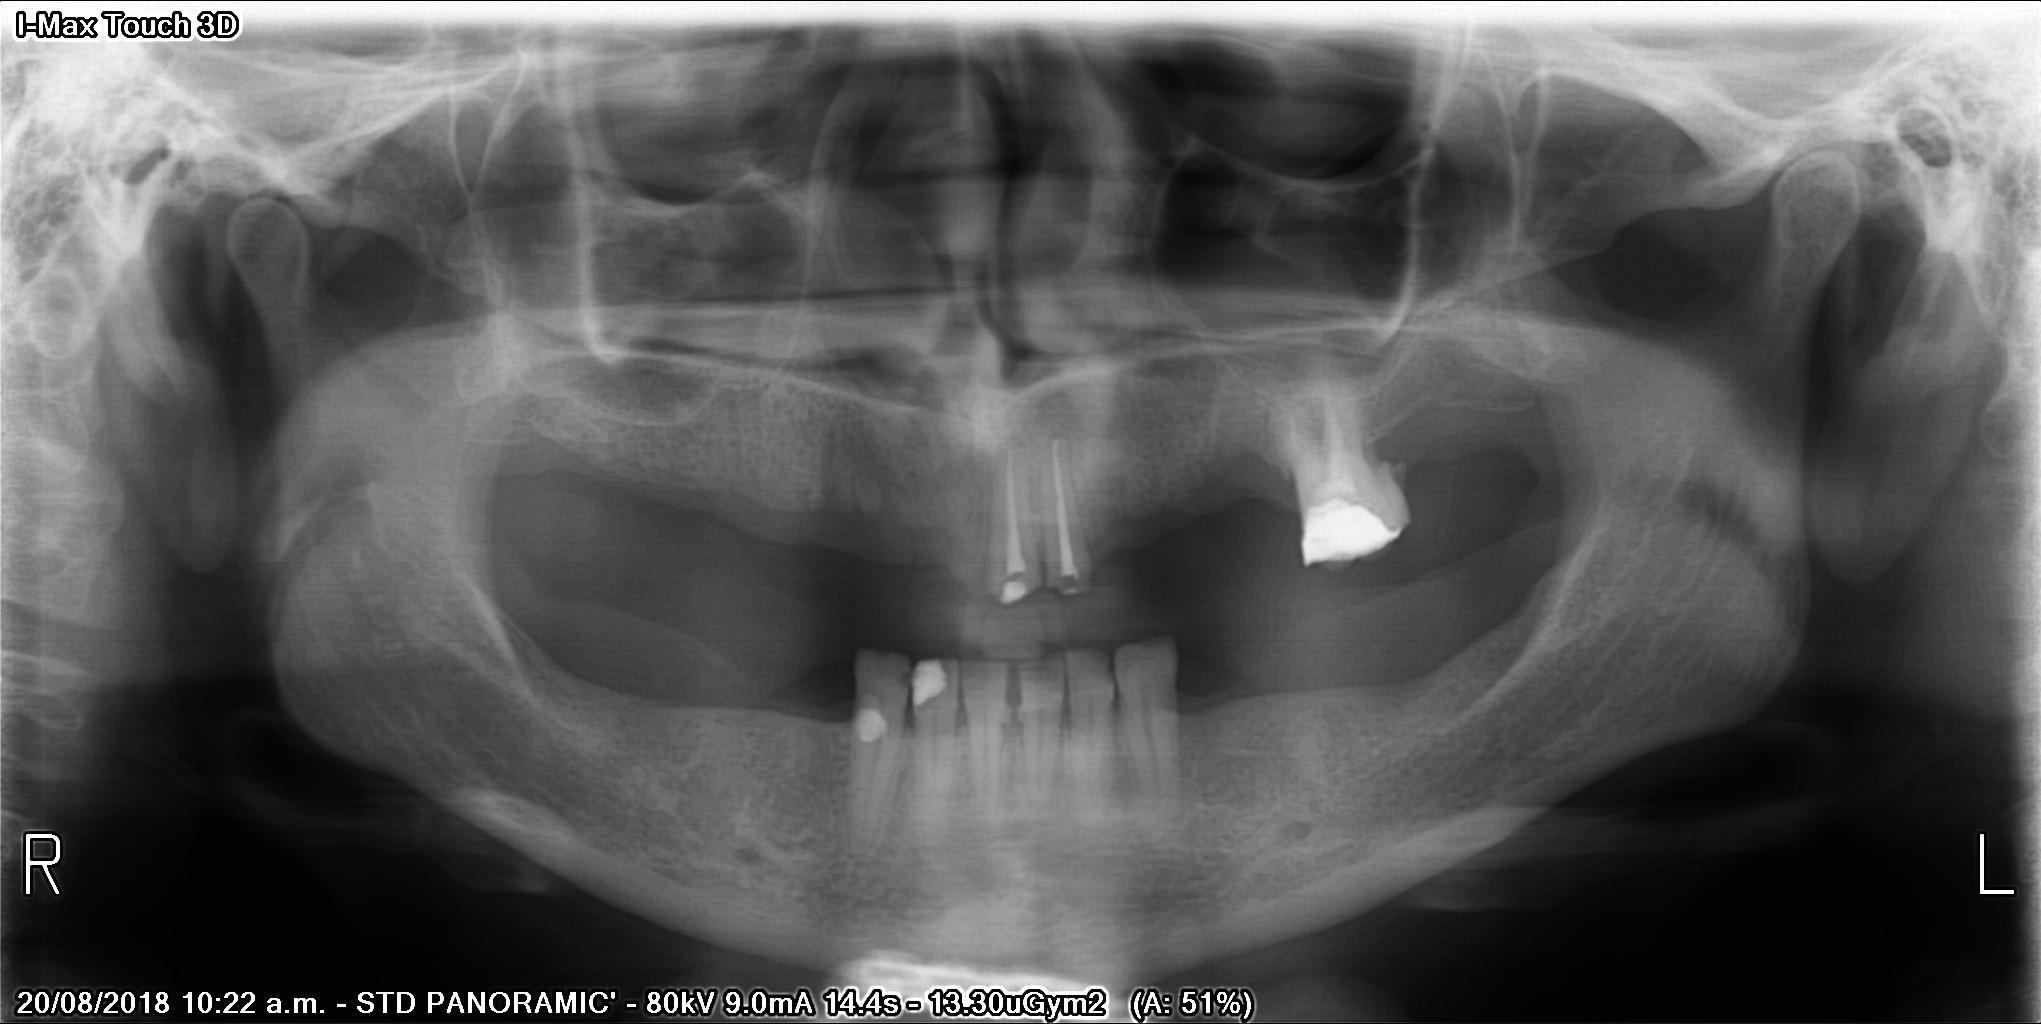Çürük: (1290, 490, 1410, 568), (841, 696, 901, 759), (901, 653, 943, 721), (992, 579, 1038, 600)
Çürük Bölgesi: (941, 657, 957, 712), (1056, 575, 1090, 597)
